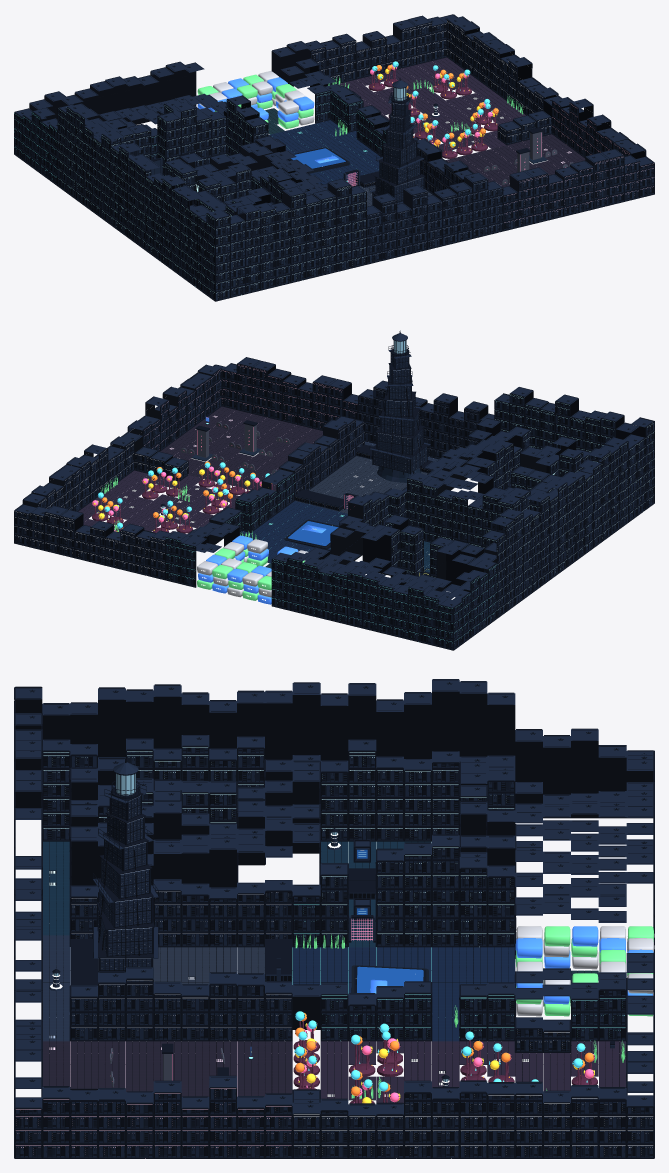
The model's file is cache_sea_shallows.fbx.
The picture shows the model from 3 angles, top to bottom: view 1: azimuth 30°, elevation 25°; view 2: azimuth 150°, elevation 25°; view 3: azimuth 270°, elevation 25°; orthographic projection. The views are drawn at different scales.
Parts seen in each view (by area): view 1: Lighthouse_c14_r03_Structure, SunkenPhone_c14_r13_Mesh, BubbleStack_2_c13_r18_Mesh, GraveTall_c03_r07_Mesh, BubbleStack_1_c12_r18_Mesh, BubbleStack_2_c13_r21_Mesh; view 2: Lighthouse_c14_r03_Structure, SunkenPhone_c14_r13_Mesh, BubbleStack_2_c13_r18_Mesh, GraveTall_c03_r07_Mesh, GraveTall_c05_r05_Mesh; view 3: Lighthouse_c14_r03_Structure, SunkenPhone_c14_r13_Mesh, BubbleStack_1_c16_r20_Mesh, BubbleStack_3_c16_r19_Mesh.
Part boxes in pixels (x1=…): Lighthouse_c14_r03_Structure: x1=369, y1=77, x2=429, y2=205; SunkenPhone_c14_r13_Mesh: x1=288, y1=147, x2=349, y2=173; BubbleStack_2_c13_r18_Mesh: x1=277, y1=100, x2=298, y2=128; GraveTall_c03_r07_Mesh: x1=528, y1=127, x2=547, y2=163; BubbleStack_1_c12_r18_Mesh: x1=293, y1=96, x2=314, y2=125; BubbleStack_2_c13_r21_Mesh: x1=252, y1=81, x2=272, y2=109; Lighthouse_c14_r03_Structure: x1=369, y1=330, x2=430, y2=482; SunkenPhone_c14_r13_Mesh: x1=284, y1=519, x2=339, y2=549; BubbleStack_2_c13_r18_Mesh: x1=247, y1=539, x2=268, y2=566; GraveTall_c03_r07_Mesh: x1=191, y1=425, x2=213, y2=461; GraveTall_c05_r05_Mesh: x1=239, y1=420, x2=261, y2=456; Lighthouse_c14_r03_Structure: x1=93, y1=758, x2=158, y2=971; SunkenPhone_c14_r13_Mesh: x1=351, y1=965, x2=428, y2=993; BubbleStack_1_c16_r20_Mesh: x1=571, y1=926, x2=598, y2=969; BubbleStack_3_c16_r19_Mesh: x1=543, y1=926, x2=570, y2=968.
Size of the model in its own units: 116 by 37.19 by 92.18.
